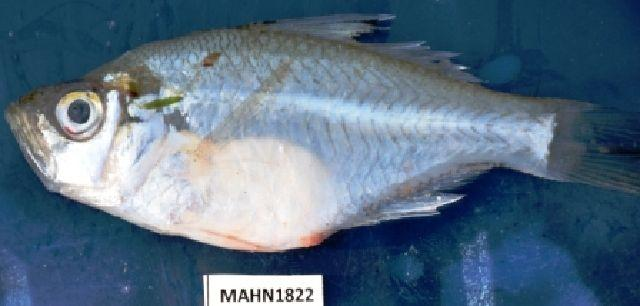Glass Perchlet: (10, 14, 638, 252)
